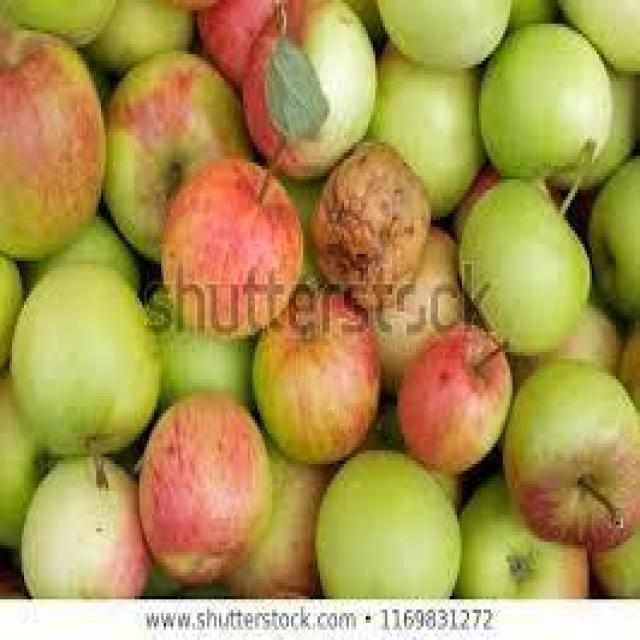maca: (0, 0, 638, 596)
